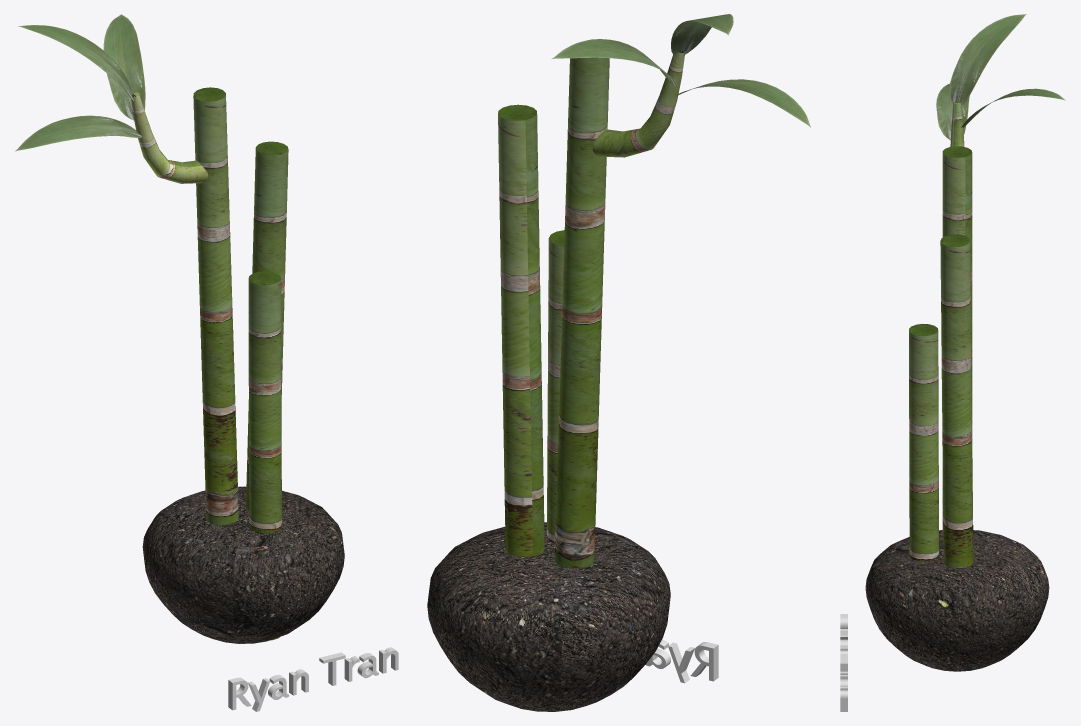
File: wk10_Plant_tran_ryan.fbx
3 renders of one model, left to right at view 1: azimuth 30°, elevation 25°; view 2: azimuth 150°, elevation 25°; view 3: azimuth 270°, elevation 25°, orthographic. The views are drawn at different scales.
Parts seen in each view (by area): view 1: pSphere1, pCylinder1, pCylinder3, pCylinder2, typeMesh1, pPlane2, pPlane1, pCylinder4, pPlane3; view 2: pSphere1, pCylinder1, pCylinder2, pCylinder3, pCylinder4, typeMesh1, pPlane2, pPlane1, pPlane3; view 3: pSphere1, pCylinder2, pCylinder3, pCylinder1, pPlane3, pPlane1, typeMesh1, pCylinder4, pPlane2.
Part boxes in pixels (x1,y1,x2,y2): pSphere1: [142, 486, 344, 643]; pCylinder1: [193, 87, 238, 525]; pCylinder3: [248, 271, 281, 640]; pCylinder2: [246, 141, 288, 510]; typeMesh1: [228, 647, 398, 711]; pPlane2: [103, 14, 145, 120]; pPlane1: [15, 115, 141, 151]; pCylinder4: [131, 92, 207, 183]; pPlane3: [17, 25, 133, 100]; pSphere1: [427, 522, 670, 711]; pCylinder1: [554, 57, 609, 568]; pCylinder2: [498, 104, 544, 556]; pCylinder3: [547, 230, 564, 543]; pCylinder4: [592, 51, 685, 157]; typeMesh1: [645, 639, 718, 683]; pPlane2: [551, 39, 677, 86]; pPlane1: [673, 79, 811, 128]; pPlane3: [671, 14, 733, 55]; pSphere1: [865, 530, 1049, 671]; pCylinder2: [940, 234, 973, 567]; pCylinder3: [909, 323, 938, 561]; pCylinder1: [942, 146, 972, 544]; pPlane3: [949, 14, 1026, 106]; pPlane1: [936, 83, 969, 140]; typeMesh1: [840, 614, 847, 711]; pCylinder4: [950, 102, 964, 146]; pPlane2: [961, 88, 1065, 127].
Bounding box in the file's own units: 32.93 × 64.51 × 22.73.
